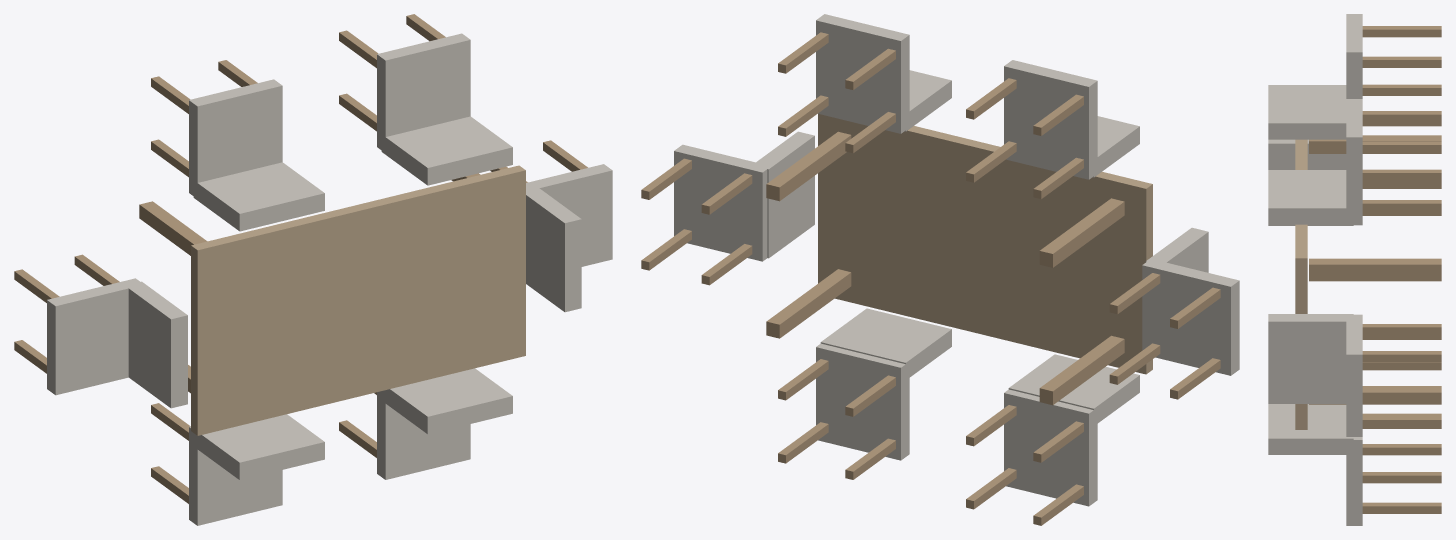
File: dining-set.glb
3 renders of one model, left to right at view 1: azimuth 30°, elevation 25°; view 2: azimuth 150°, elevation 25°; view 3: azimuth 270°, elevation 25°, orthographic. The views are drawn at different scales.
Visible parts, largest first — view 1: dining-set_0, dining-set_29, dining-set_11, dining-set_23, dining-set_30, dining-set_24, dining-set_12, dining-set_36, dining-set_6, dining-set_18, dining-set_5, dining-set_17 (+2 smaller); view 2: dining-set_0, dining-set_29, dining-set_11, dining-set_23, dining-set_17, dining-set_35, dining-set_5, dining-set_18, dining-set_36, dining-set_6, dining-set_1, dining-set_2 (+29 smaller); view 3: dining-set_36, dining-set_24, dining-set_12, dining-set_18, dining-set_4, dining-set_23, dining-set_35, dining-set_0, dining-set_30, dining-set_17, dining-set_11, dining-set_2 (+22 smaller).
Boxes of the visible parts, box(x1,y1,x2,y2) form: dining-set_0: box(191, 165, 525, 435); dining-set_29: box(47, 278, 143, 395); dining-set_11: box(189, 79, 282, 198); dining-set_23: box(377, 33, 470, 150); dining-set_30: box(126, 281, 187, 408); dining-set_24: box(381, 116, 512, 185); dining-set_12: box(193, 162, 324, 231); dining-set_36: box(526, 188, 581, 312); dining-set_6: box(193, 414, 324, 480); dining-set_18: box(381, 368, 512, 434); dining-set_5: box(189, 426, 282, 525); dining-set_17: box(377, 391, 470, 479); dining-set_0: box(818, 114, 1152, 374); dining-set_29: box(1142, 259, 1239, 375); dining-set_11: box(1004, 60, 1097, 179); dining-set_23: box(816, 14, 909, 133); dining-set_17: box(816, 343, 909, 460); dining-set_35: box(674, 144, 767, 261); dining-set_5: box(1004, 389, 1097, 506); dining-set_18: box(820, 308, 951, 379); dining-set_36: box(752, 131, 814, 258); dining-set_6: box(1008, 354, 1139, 425); dining-set_1: box(1039, 335, 1124, 405); dining-set_2: box(1039, 198, 1124, 267); dining-set_36: box(1268, 314, 1353, 403); dining-set_24: box(1268, 170, 1353, 224); dining-set_12: box(1268, 85, 1346, 139); dining-set_18: box(1268, 404, 1353, 454); dining-set_4: box(1309, 258, 1441, 277); dining-set_23: box(1346, 99, 1362, 223); dining-set_35: box(1346, 314, 1362, 436); dining-set_0: box(1295, 139, 1307, 429); dining-set_30: box(1268, 139, 1353, 225); dining-set_17: box(1346, 437, 1362, 525); dining-set_11: box(1346, 14, 1362, 98); dining-set_2: box(1309, 135, 1441, 153).
Bounding box in the file's own units: 3.14 × 2.26 × 0.915.
